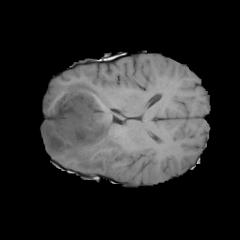glioma: (42, 81, 122, 173)
